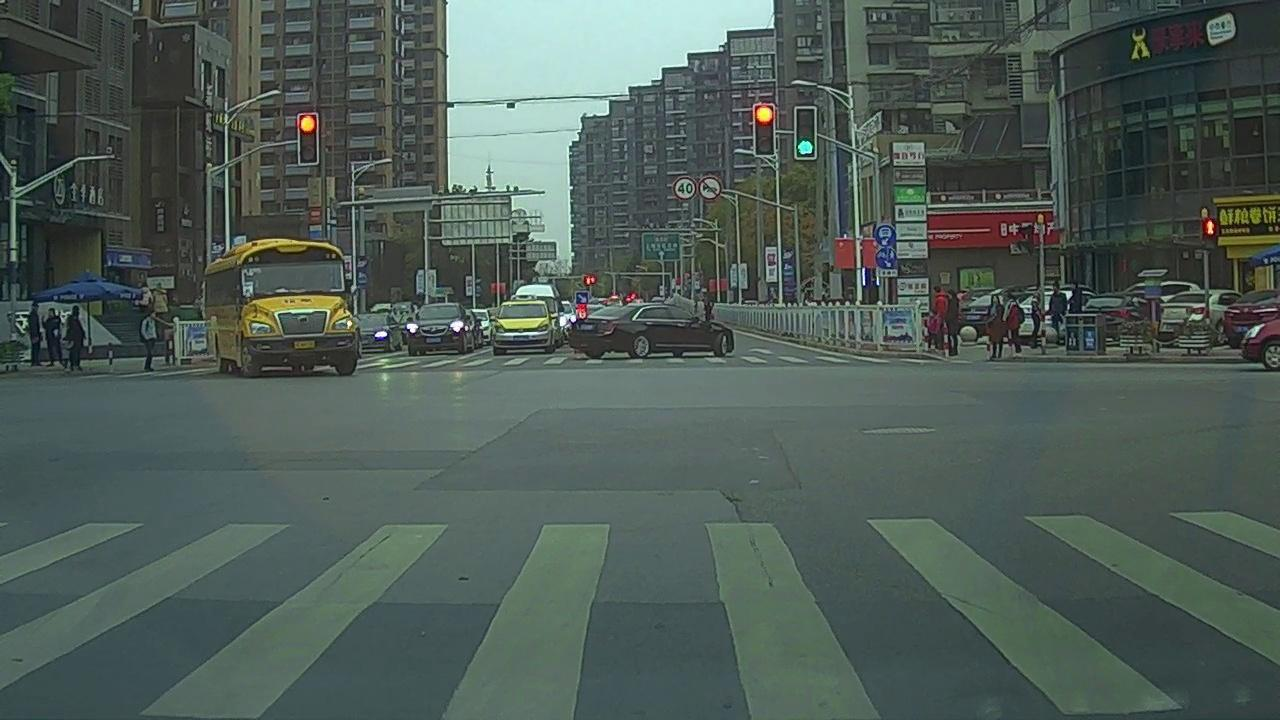traffic_light: (297, 116, 320, 164), (753, 106, 775, 155), (796, 108, 813, 161)
